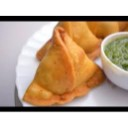samosa: (23, 27, 104, 101)
